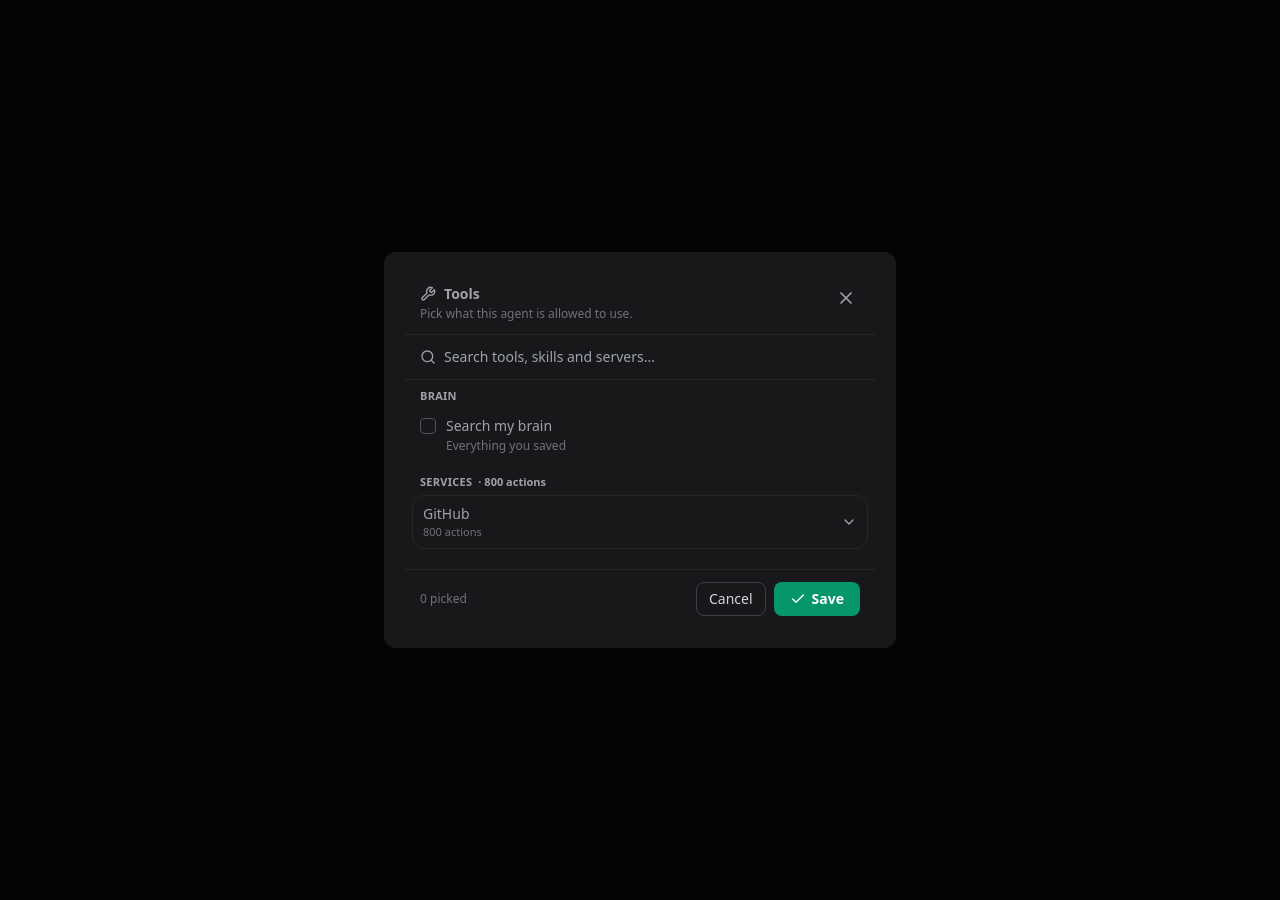
Test: ToolPicker with a huge service › folds the service, searches within it, and never renders all of it
Expected: the text "Search my brain" is shown, 446,416 -> 552,436
Expected: the text "· 800 actions" is shown, 478,474 -> 546,489
// Open it: one page and a search box of its own.
Click the text "GitHub" at {"x": 446, "y": 513}, box 423,504 -> 470,523
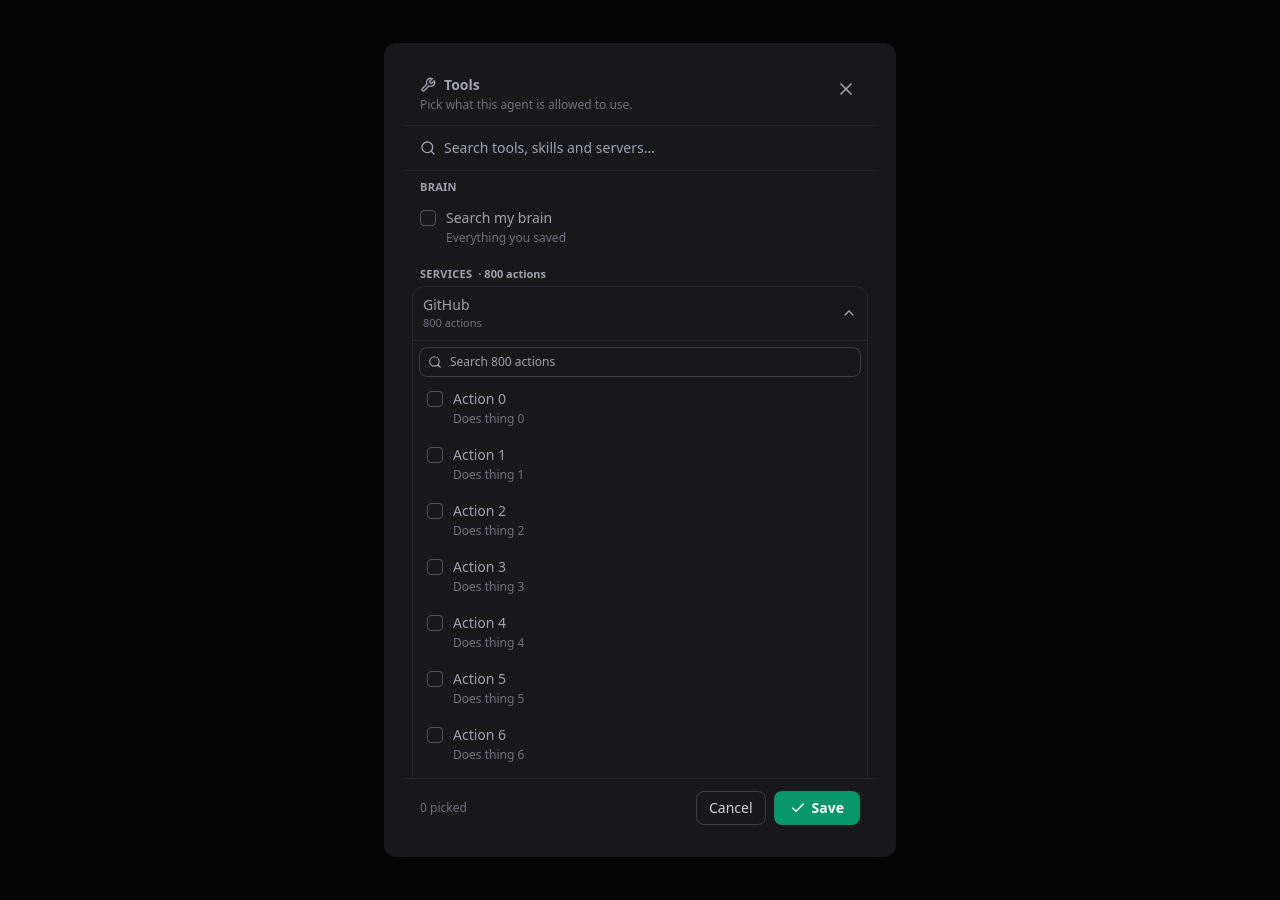
Now the text "Action 0" is shown, box 453,388 -> 506,408
Type "star repository" into the field named "Search GitHub's actions" at {"x": 651, "y": 362}, box 450,352 -> 852,372
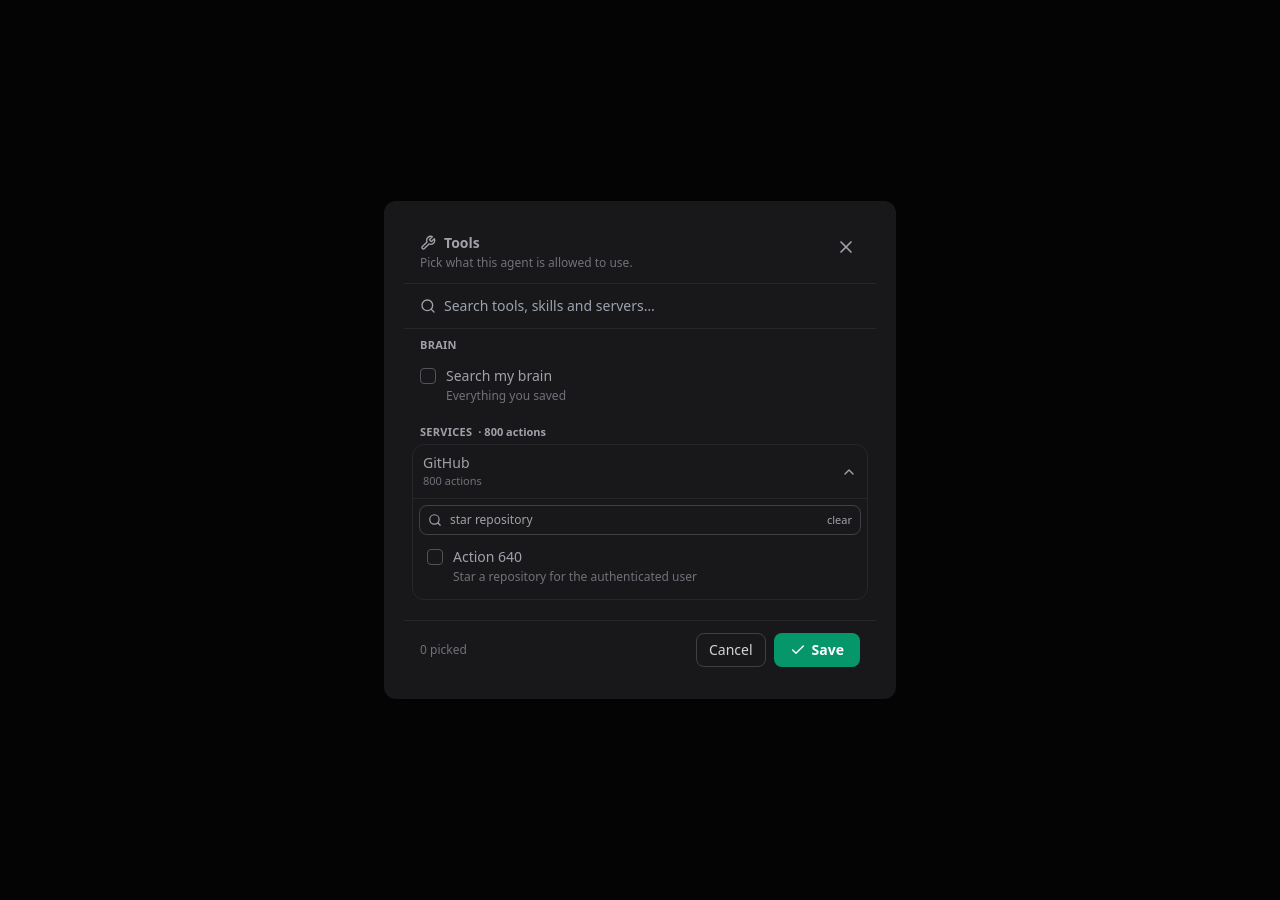
Now the text "Action 640" is shown
Now the button "Action 0" is gone
// Ticking one from deep in the list counts on the fold.
Click the text "Action 640" at {"x": 488, "y": 557}, box 453,547 -> 522,567
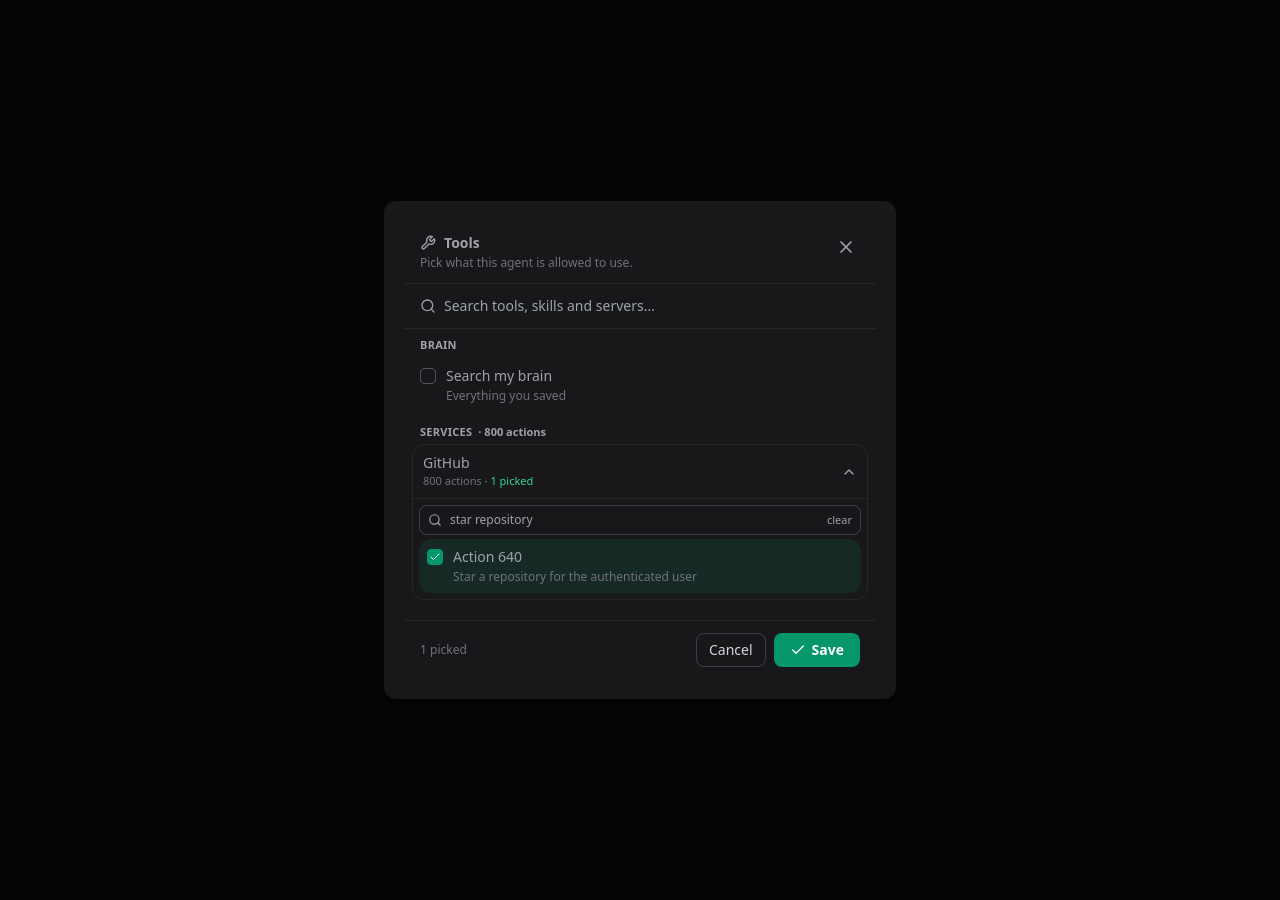
Now the text "· 1 picked" is shown 2 times, box 482,473 -> 533,488; 420,642 -> 467,658
